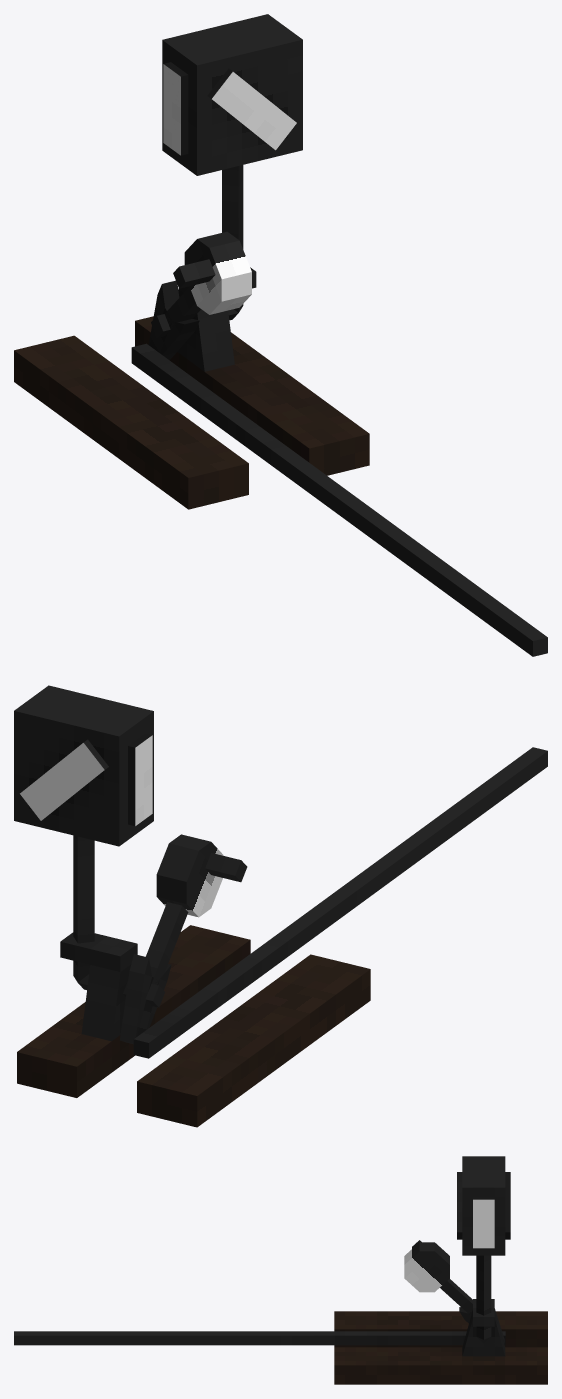
Rendered from left_side_left_turn_off.obj.
3 views of the same model, one above another, from view 1: azimuth 30°, elevation 25°; view 2: azimuth 150°, elevation 25°; view 3: azimuth 270°, elevation 25° (orthographic). The views are drawn at different scales.
Parts seen in each view (by area): view 1: base; view 2: base; view 3: base.
Part boxes in pixels (bbox=[...]): base: bbox=[14, 14, 547, 656]; base: bbox=[14, 685, 547, 1127]; base: bbox=[14, 1156, 547, 1384].
Bounding box in the file's own units: 0.9375 × 1.34 × 3.12.
Materials: 1 (1 with a texture image).
